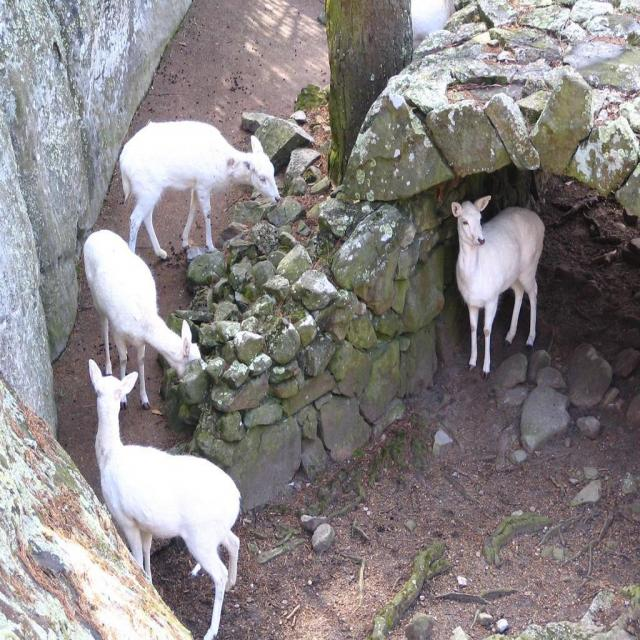Deer: (89, 360, 241, 640), (121, 120, 283, 263), (80, 229, 203, 410), (451, 194, 548, 381)
